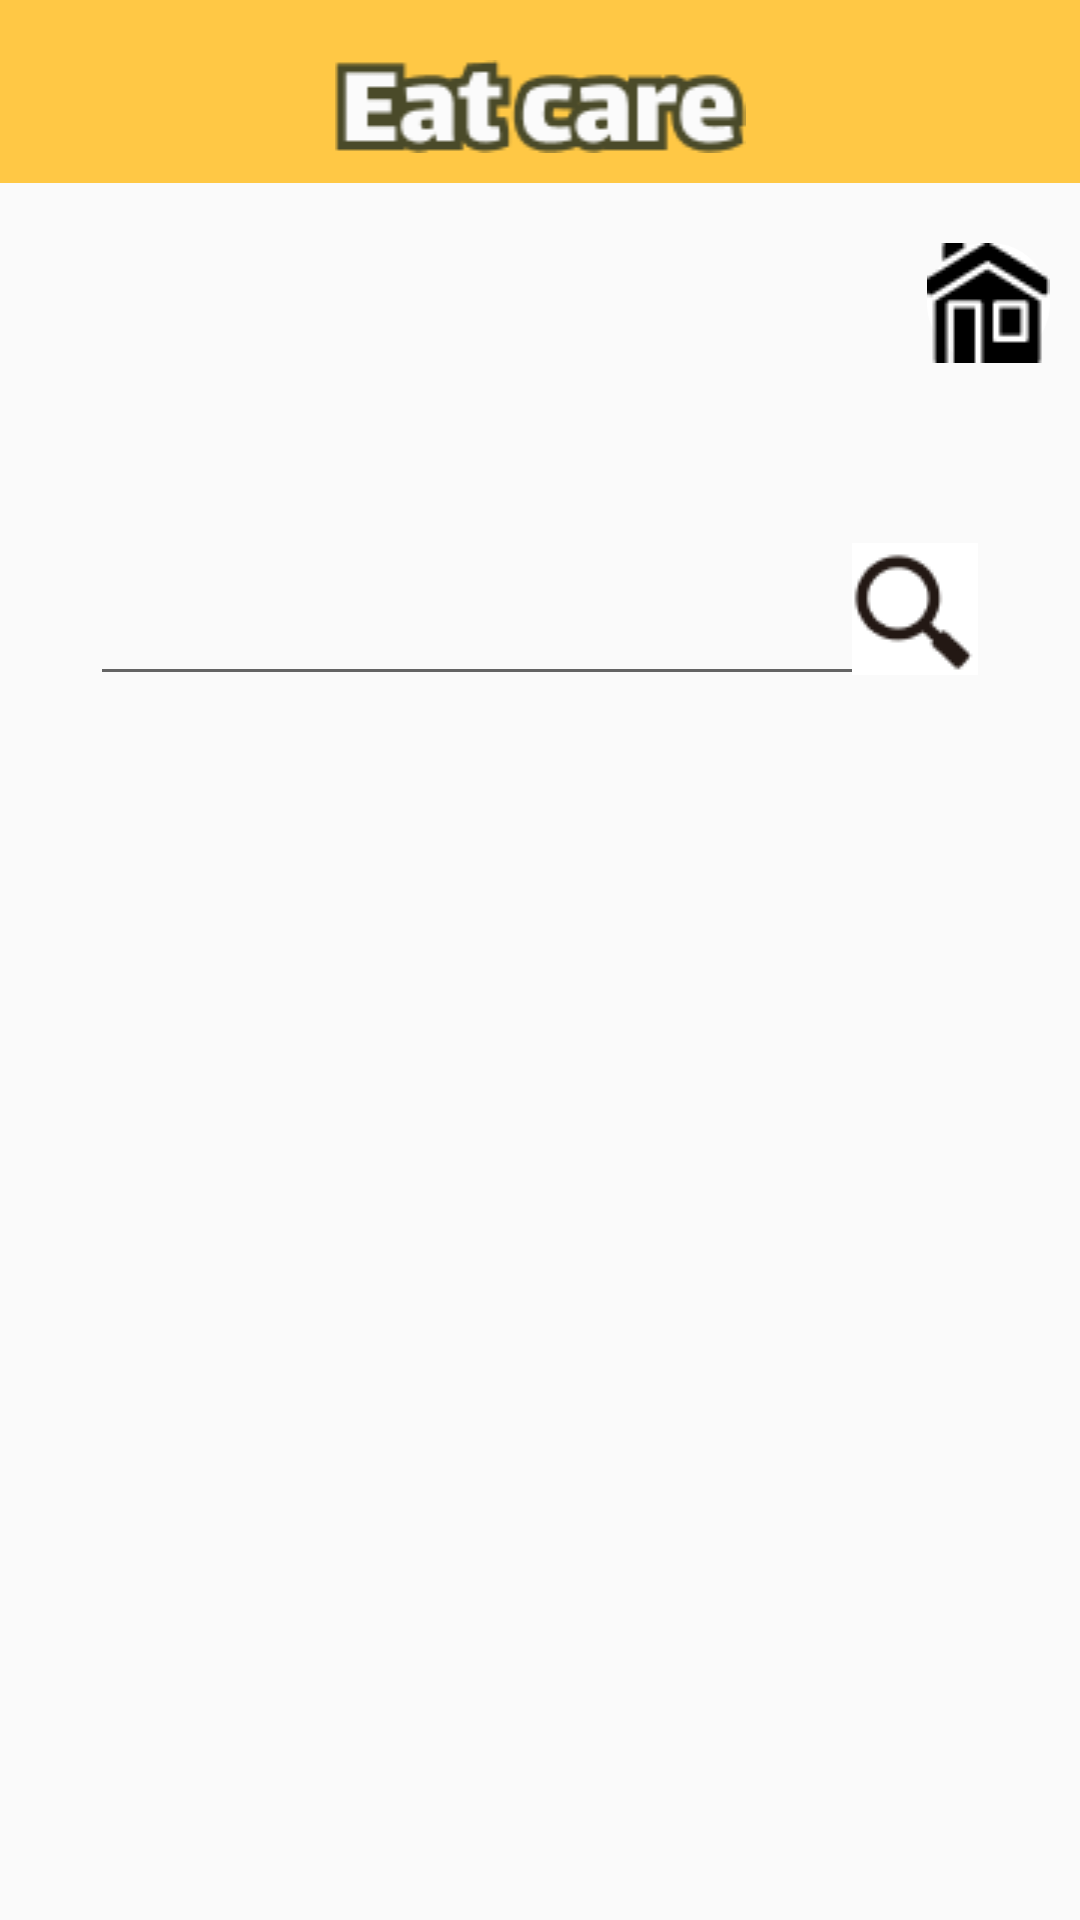

Where to tap for icons on this 1080 x 1920 app screen, as point (x, y):
home: point (988, 303)
